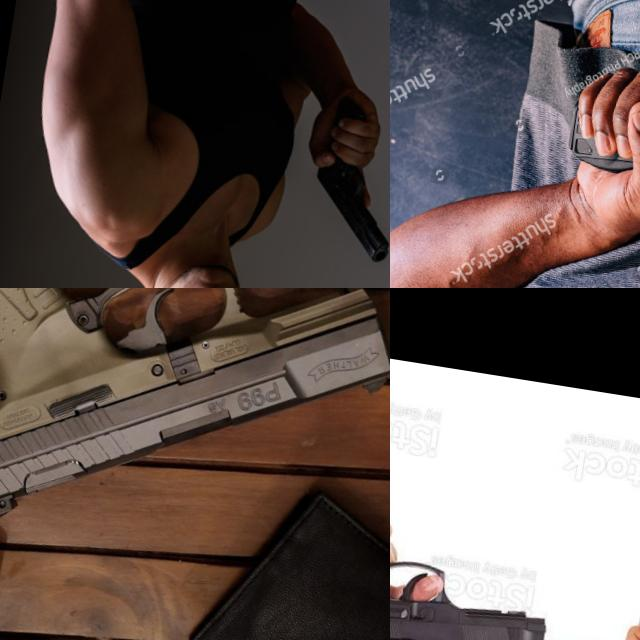handgun: (0, 288, 390, 582), (390, 539, 566, 640), (301, 151, 390, 268)
